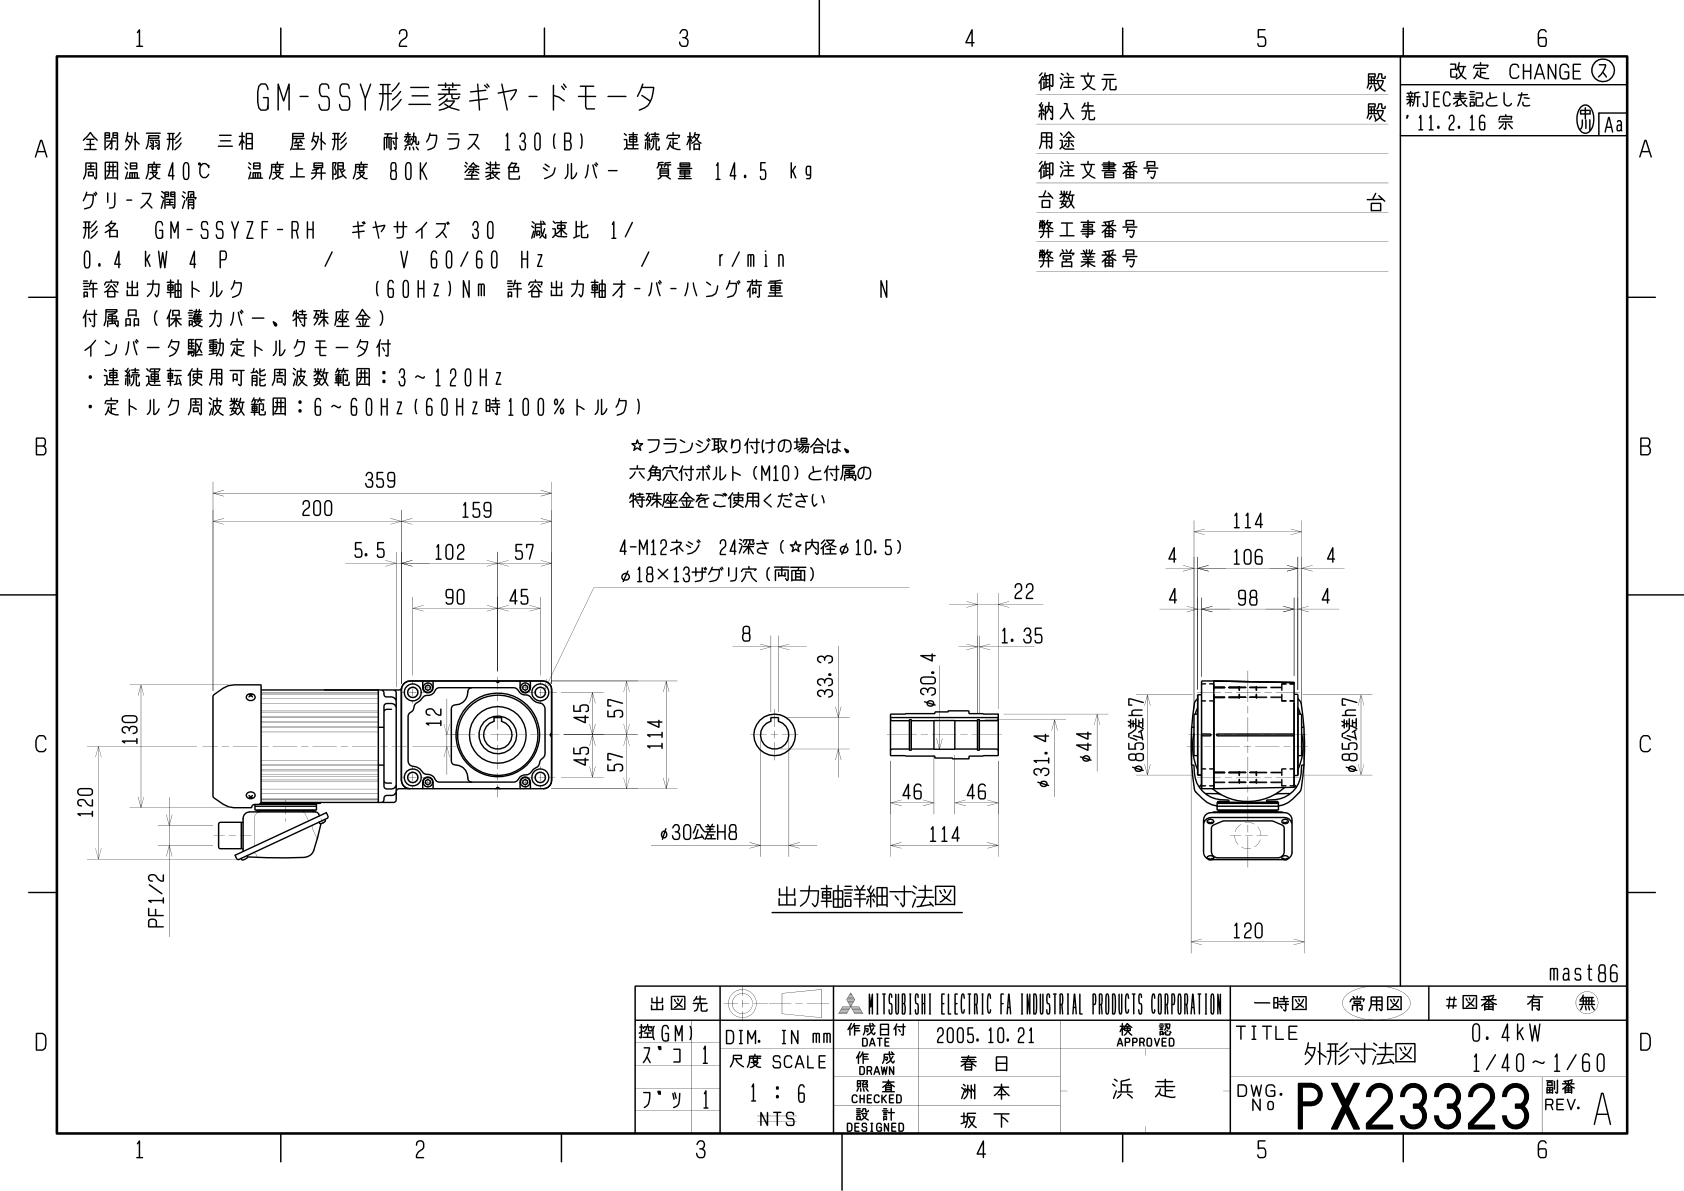GM_SSY_インバータ屋外_三相: (21, 6, 1684, 1191)
